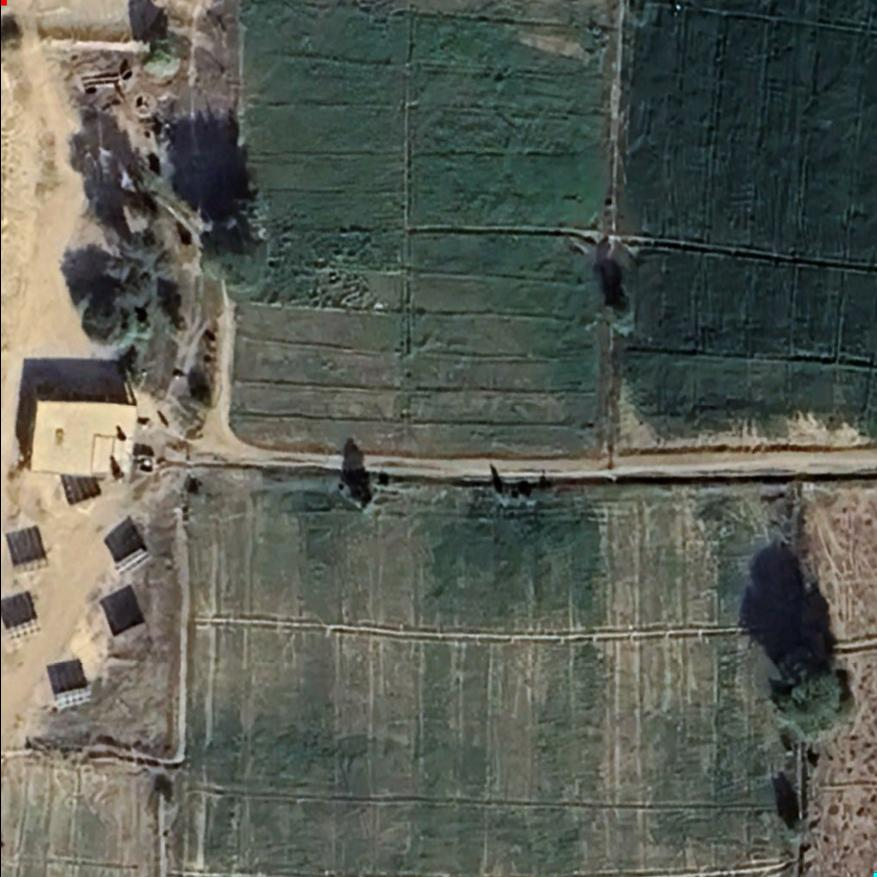Solarpanel: (112, 542, 157, 572), (4, 615, 45, 644), (50, 686, 96, 711), (12, 555, 53, 580)
